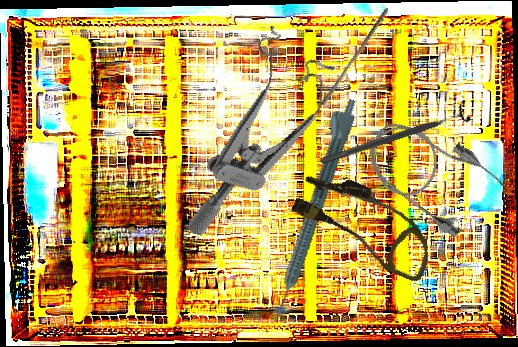Cannula: (353, 101, 509, 245), (284, 163, 446, 284)
Fixation Ring: (316, 98, 474, 174)
Handpiece: (262, 94, 361, 318)
Pusher: (320, 4, 390, 109)
Speculum: (186, 19, 342, 259)
